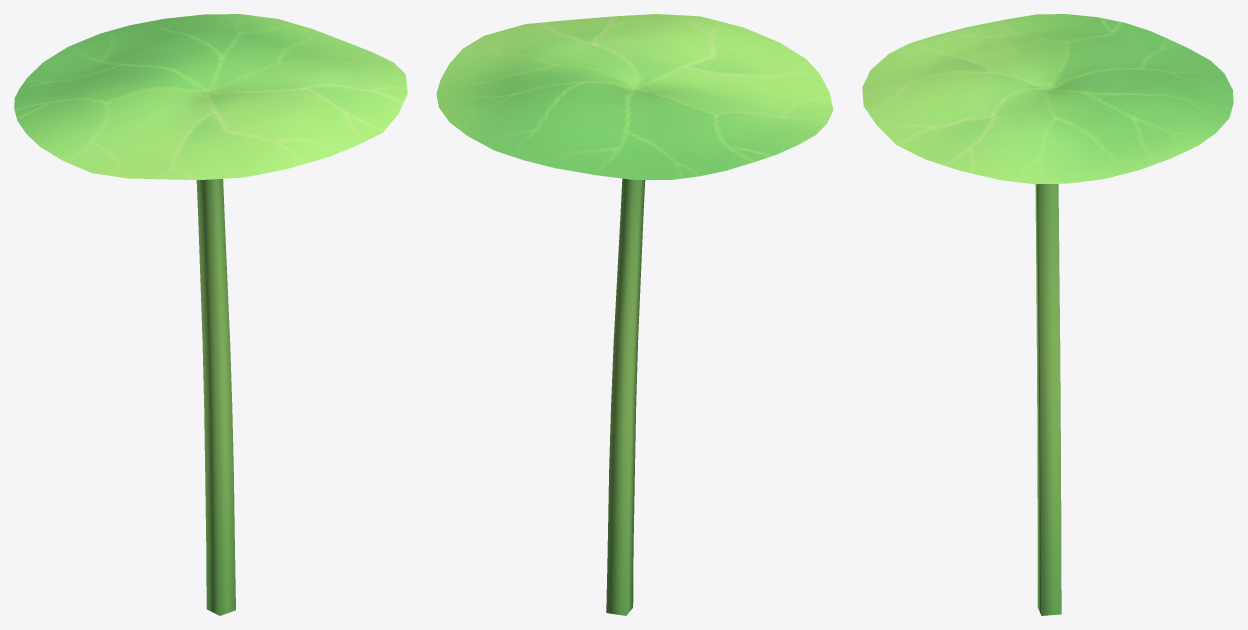
Rendered from fpq_x.fbx.
3 views of the same model, side by side, from view 1: azimuth 30°, elevation 25°; view 2: azimuth 150°, elevation 25°; view 3: azimuth 270°, elevation 25° (orthographic).
Visible parts, largest first — view 1: fpq_x_ye, fpq_x_gen; view 2: fpq_x_ye, fpq_x_gen; view 3: fpq_x_ye, fpq_x_gen.
Part boxes in pixels (bbox=[...]): fpq_x_ye: bbox=[14, 14, 407, 180]; fpq_x_gen: bbox=[193, 85, 235, 615]; fpq_x_ye: bbox=[436, 14, 833, 179]; fpq_x_gen: bbox=[606, 81, 649, 615]; fpq_x_ye: bbox=[862, 14, 1233, 184]; fpq_x_gen: bbox=[1035, 82, 1061, 615].
Bounding box in the file's own units: 311 × 452 × 289.
